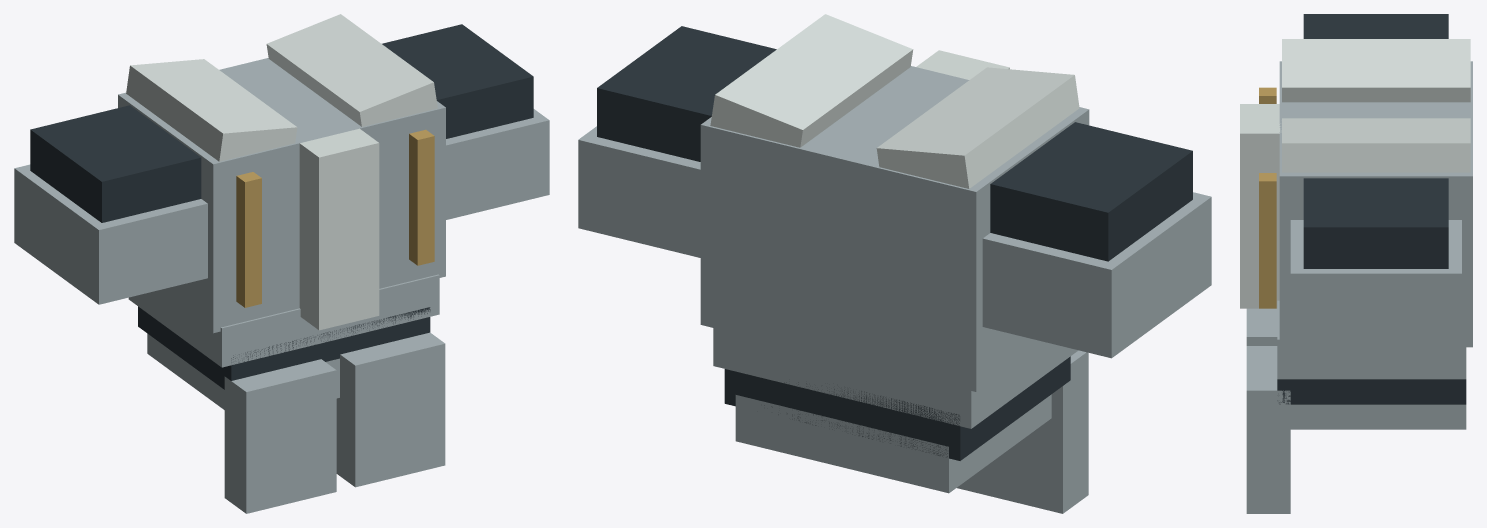
File: fixed-plate-lod1.glb
The picture shows the model from 3 angles, left to right: view 1: azimuth 30°, elevation 25°; view 2: azimuth 150°, elevation 25°; view 3: azimuth 270°, elevation 25°; orthographic projection. The views are drawn at different scales.
Visible parts, largest first — view 1: piece_torso, piece_armR, piece_waist, piece_armL; view 2: piece_torso, piece_armR, piece_armL, piece_waist; view 3: piece_torso, piece_armL, piece_waist, piece_armR.
Boxes of the visible parts, left/top/right/bottom form: piece_torso: left=118, top=14, right=445, bottom=409; piece_armR: left=14, top=105, right=207, bottom=304; piece_waist: left=224, top=332, right=445, bottom=513; piece_armL: left=382, top=24, right=549, bottom=219; piece_torso: left=700, top=14, right=1089, bottom=493; piece_armR: left=982, top=122, right=1211, bottom=358; piece_armL: left=578, top=26, right=776, bottom=257; piece_waist: left=957, top=350, right=1088, bottom=513; piece_torso: left=1240, top=39, right=1472, bottom=429; piece_armL: left=1290, top=178, right=1461, bottom=349; piece_waist: left=1246, top=308, right=1290, bottom=513; piece_armR: left=1303, top=14, right=1448, bottom=38.
Bounding box in the file's own units: 1.2 × 0.9393 × 0.53.
